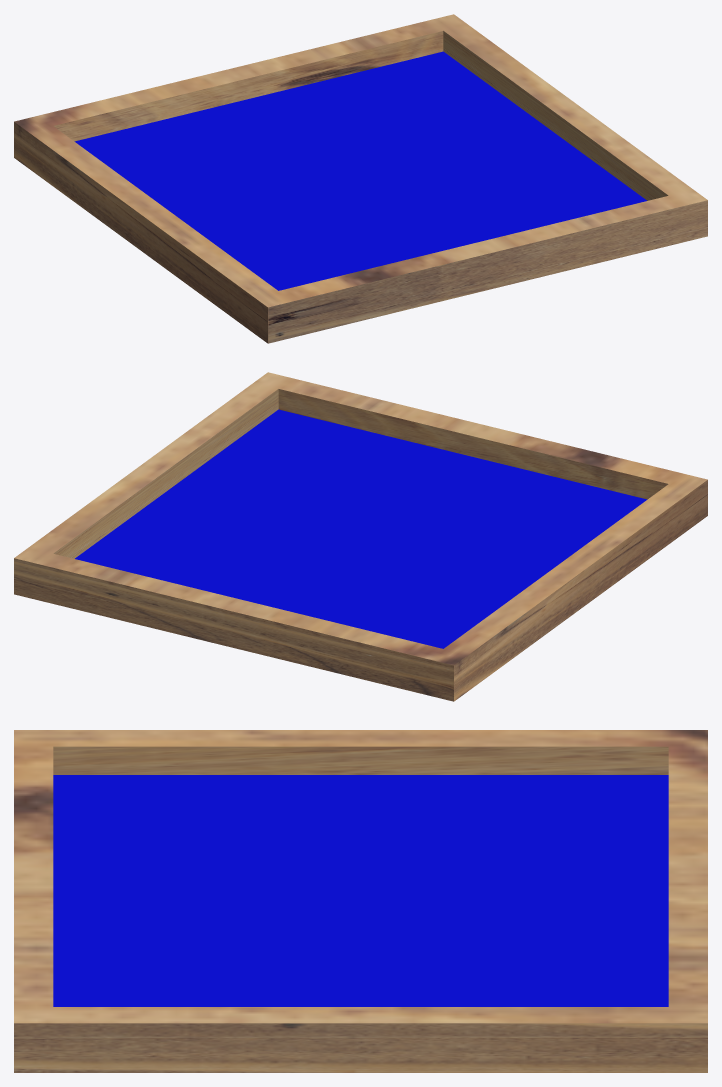
Rendered from Plantation_Base.fbx.
The picture shows the model from 3 angles, top to bottom: view 1: azimuth 30°, elevation 25°; view 2: azimuth 150°, elevation 25°; view 3: azimuth 270°, elevation 25°; orthographic projection. The views are drawn at different scales.
Parts seen in each view (by area): view 1: Cube; view 2: Cube; view 3: Cube.
Part boxes in pixels (x1,y1,x2,y2): Cube: (14, 14, 707, 343); Cube: (14, 372, 707, 701); Cube: (14, 730, 707, 1072).
Size of the model in its own units: 200 by 15.73 by 200.
